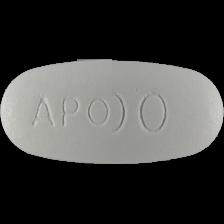60505-0102: (0, 0, 224, 224)
